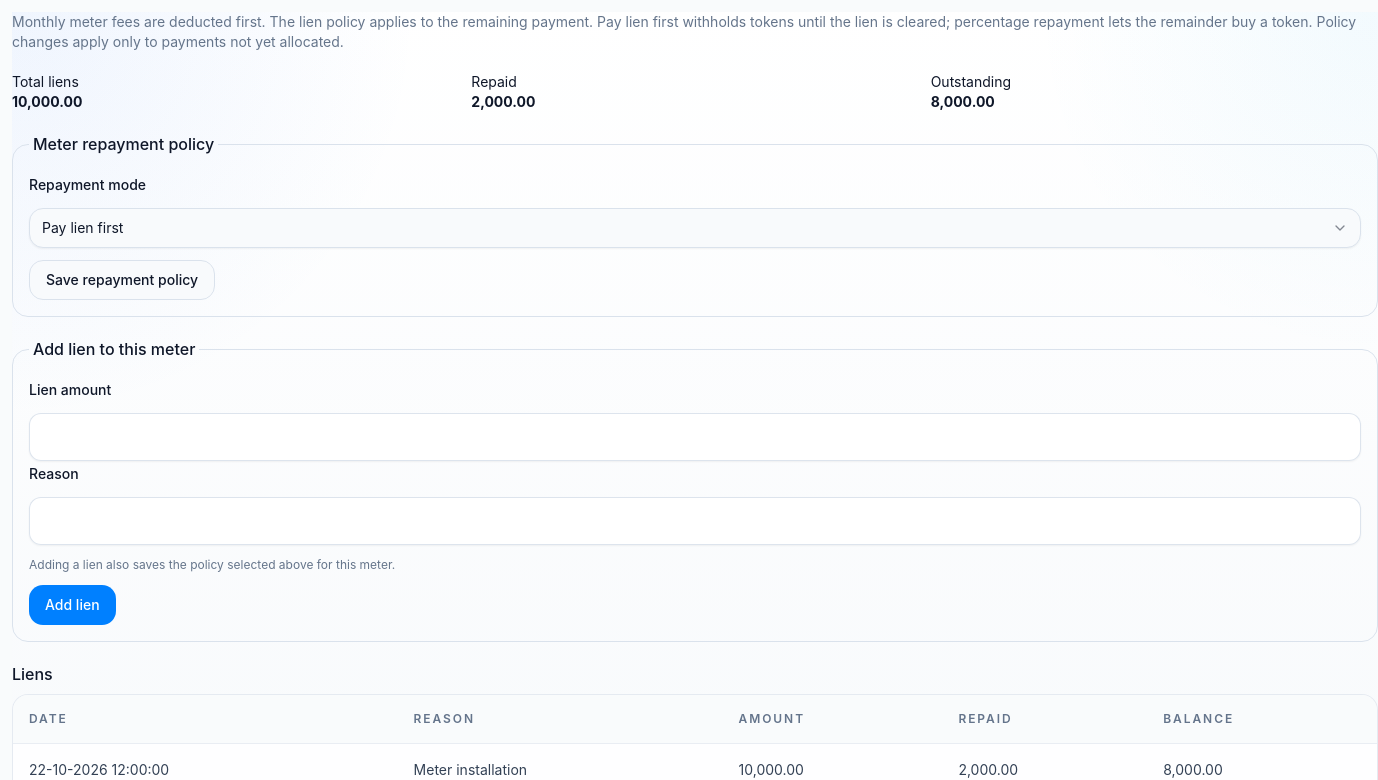
Scenario: adds a pay-first lien only to the selected meter and clears the form
In the number field labelled "Lien amount": [695, 437] box [29,413,1361,461], type "5000"
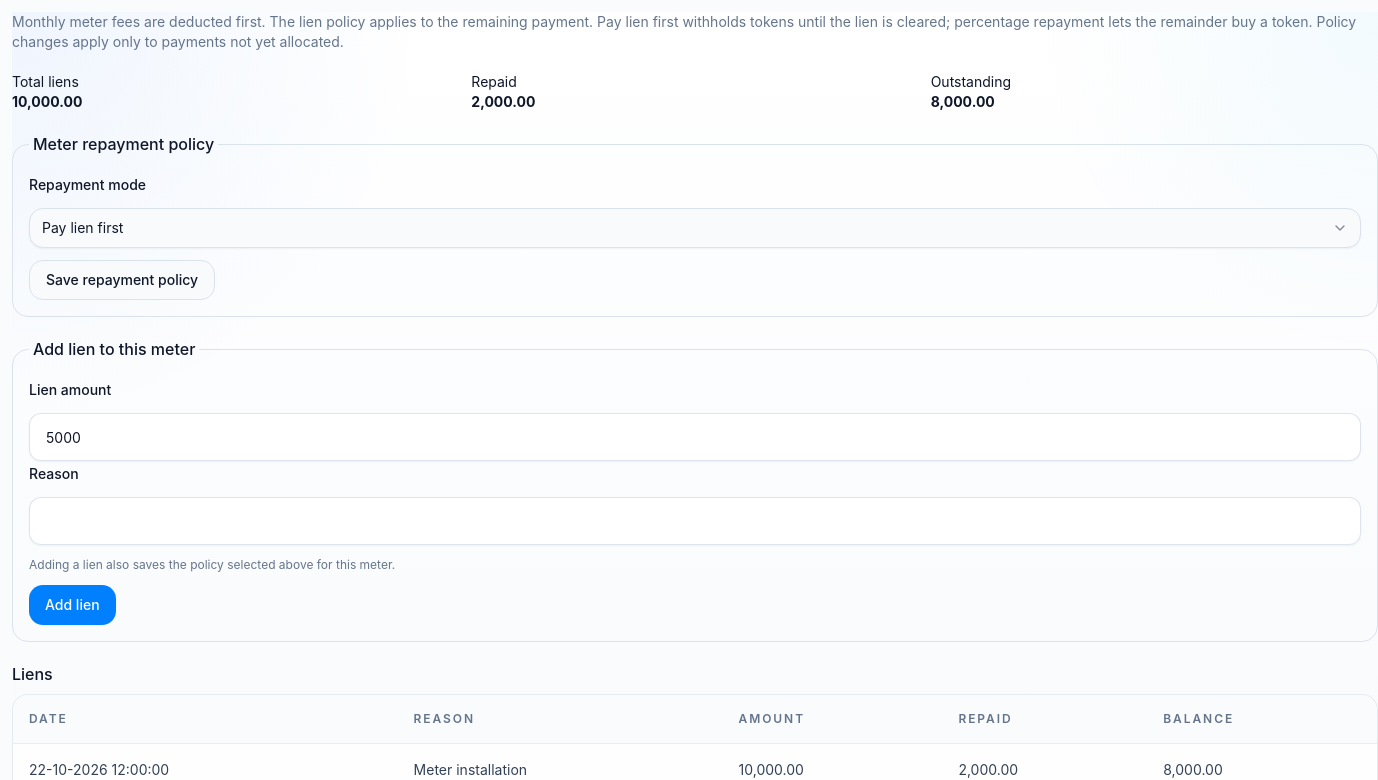
In the field labelled "Reason": [695, 521] box [29,497,1361,545], type " Repairs "
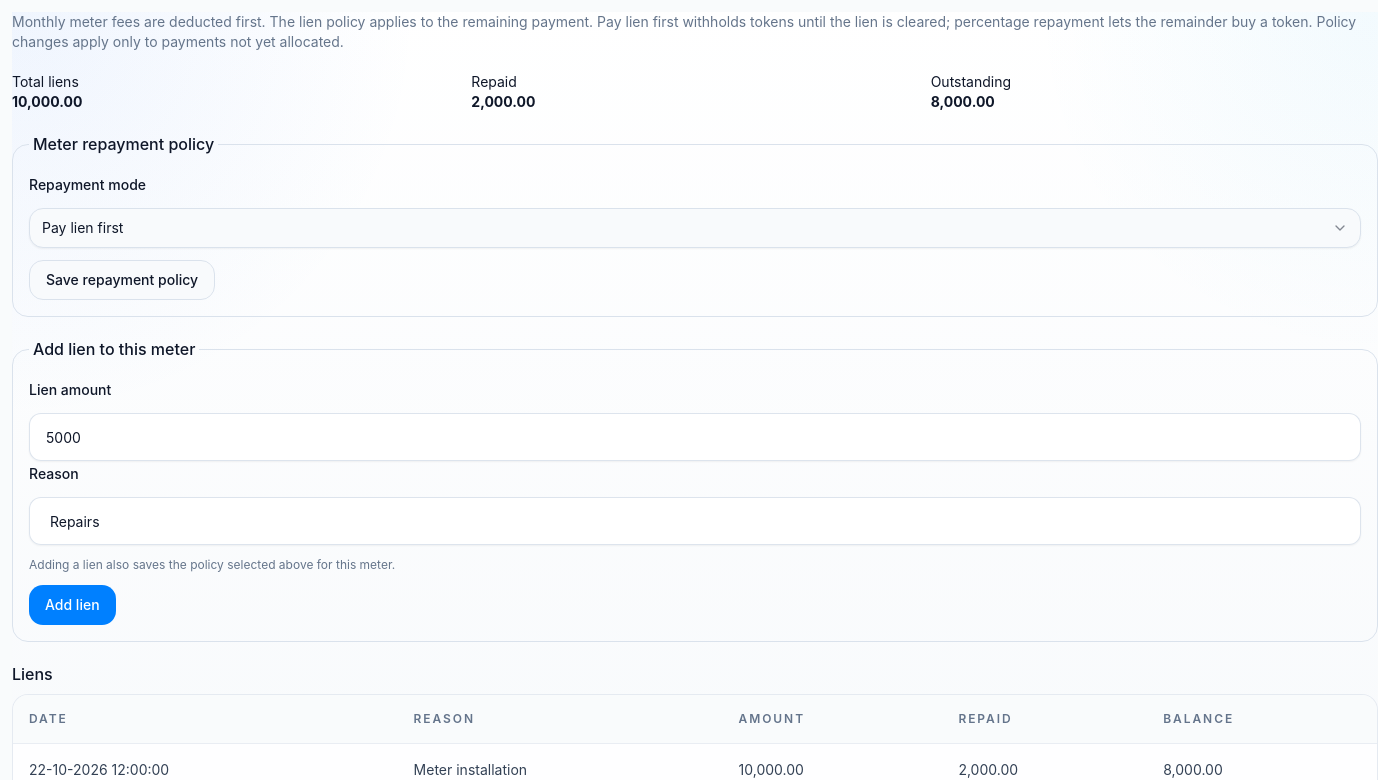
Click the button "Add lien": [72, 605] box [29,585,116,625]
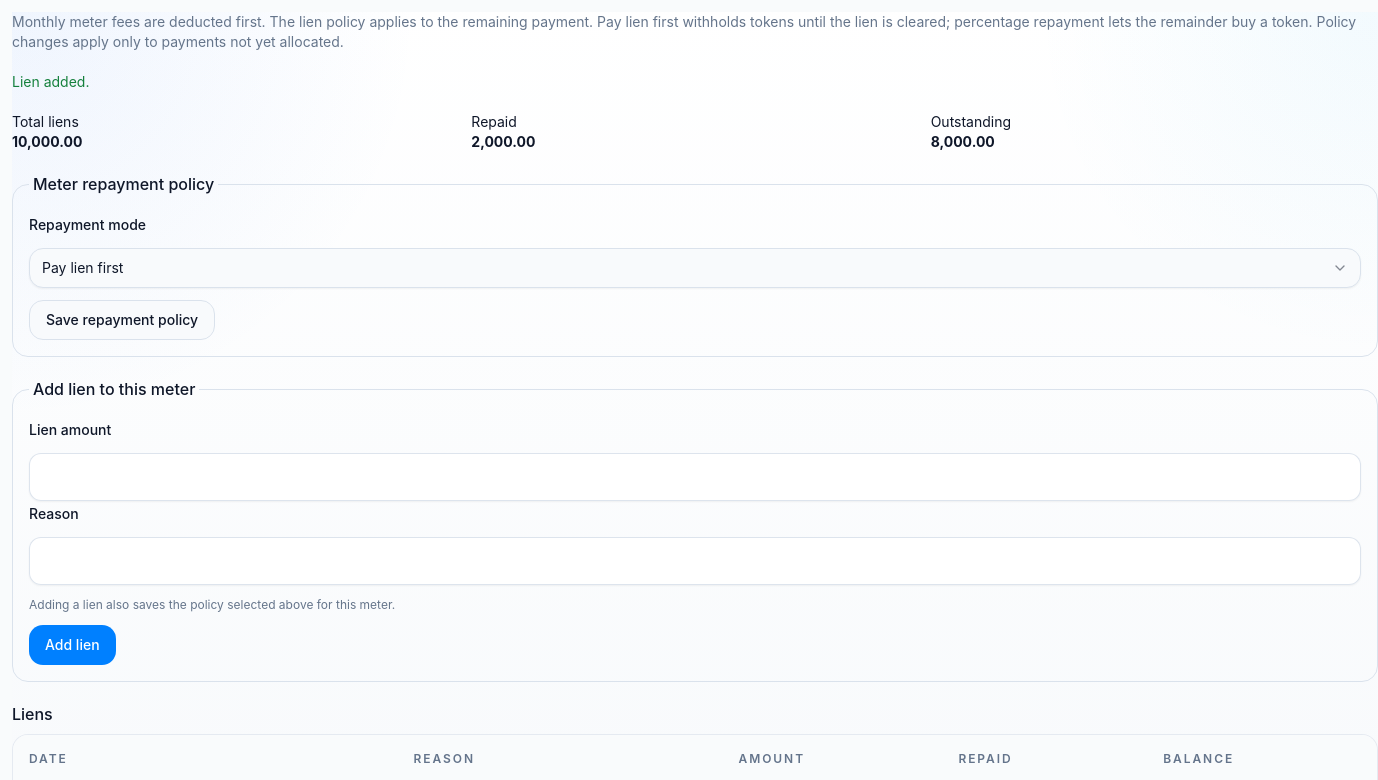
Now the text "Lien added." is shown, box [12,73,90,90]
Now the number field labelled "Lien amount" is not empty, box [29,453,1361,501]
